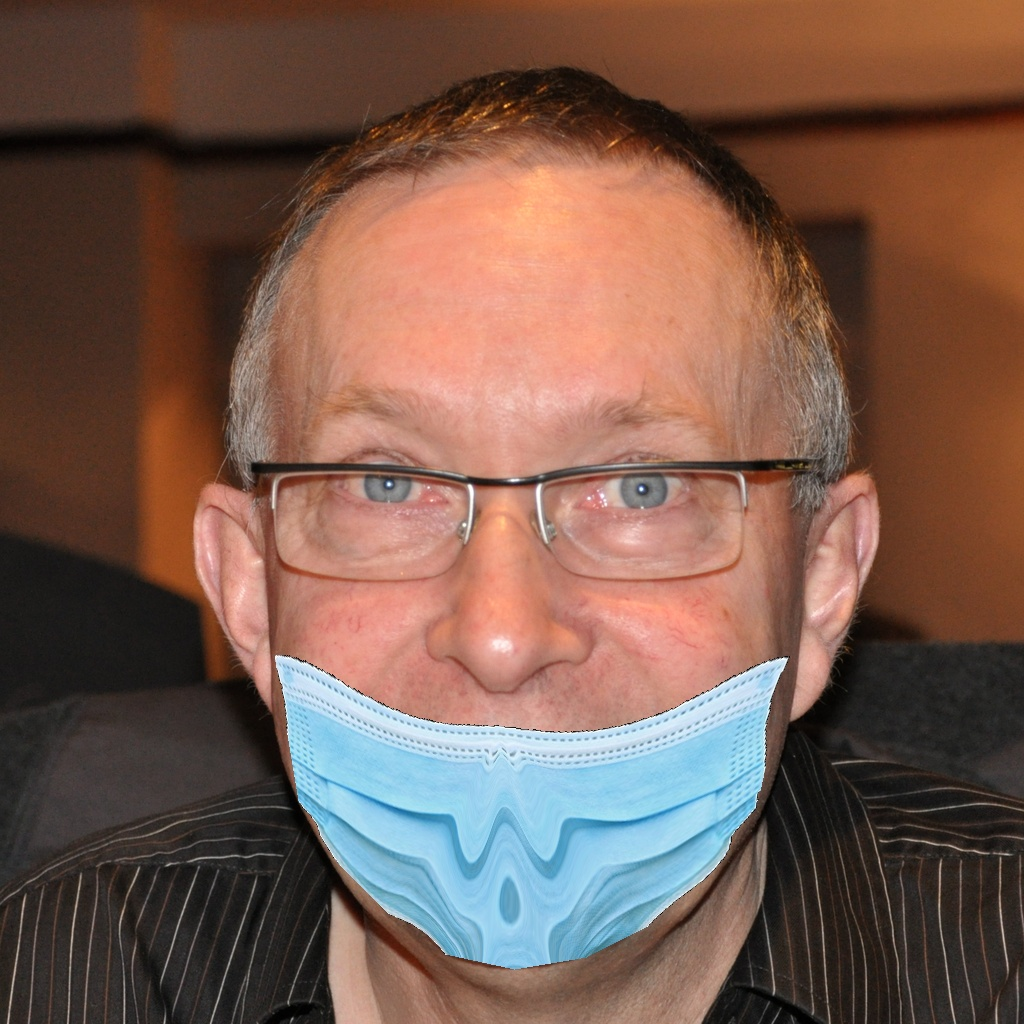mascarilla_mal_puesta: (219, 383, 877, 978)
